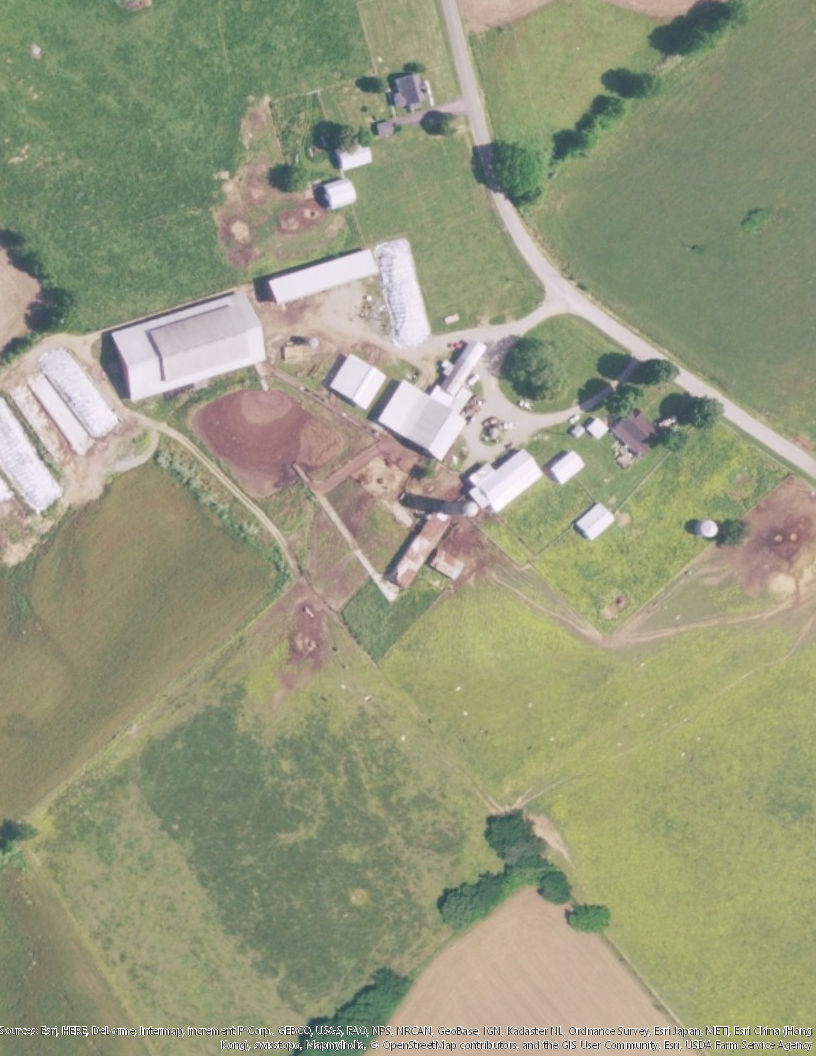cafo: (104, 286, 274, 398), (377, 327, 496, 469), (263, 247, 382, 309), (464, 444, 551, 520), (327, 351, 386, 410)
